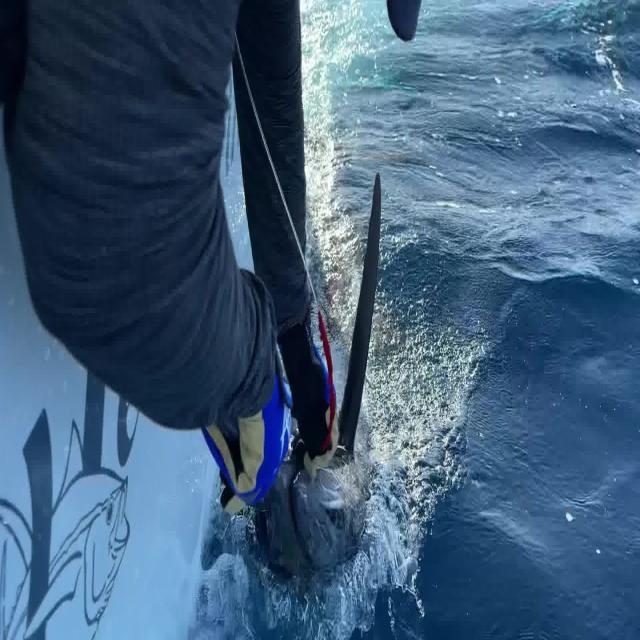Liberacion segura: (252, 170, 381, 586)
